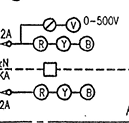Cable Termination Box: (33, 60, 65, 80)
